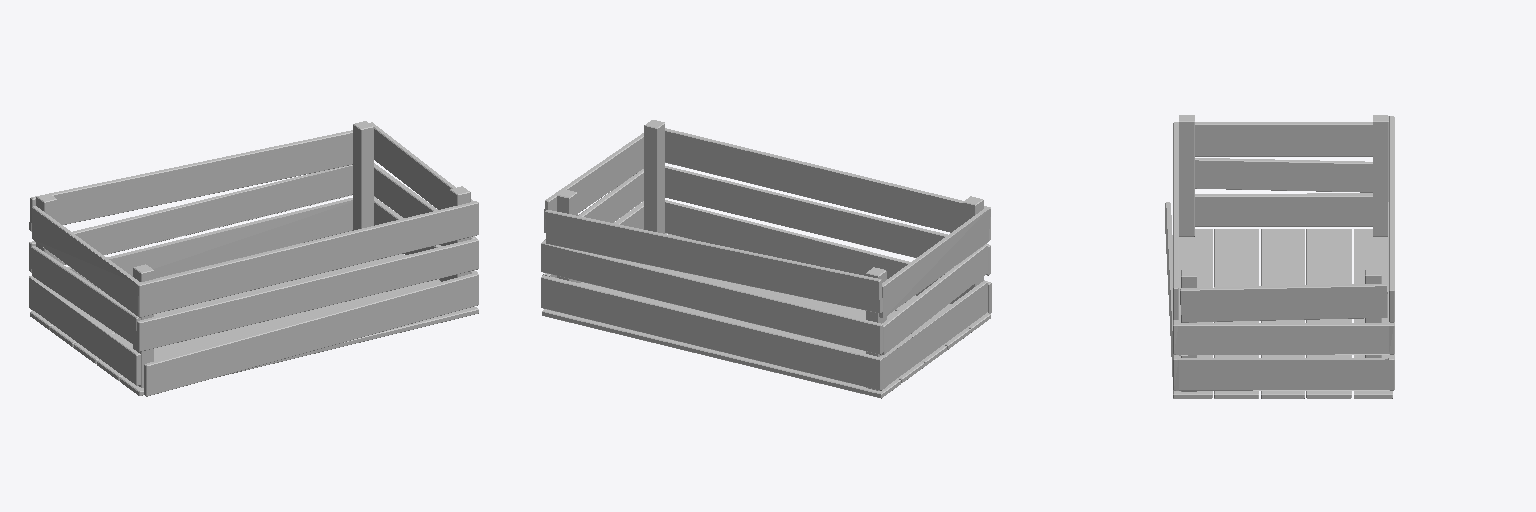
The model's file is crate1.obj.
3 views of the same model, side by side, from view 1: azimuth 30°, elevation 25°; view 2: azimuth 150°, elevation 25°; view 3: azimuth 270°, elevation 25° (orthographic).
Parts seen in each view (by area): view 1: crate1; view 2: crate1; view 3: crate1.
Boxes of the visible parts, x1=… form: crate1: x1=29, y1=121, x2=478, y2=396; crate1: x1=541, y1=120, x2=991, y2=398; crate1: x1=1165, y1=115, x2=1394, y2=398.
Bounding box in the file's own units: 0.5235 × 0.1764 × 0.3041.